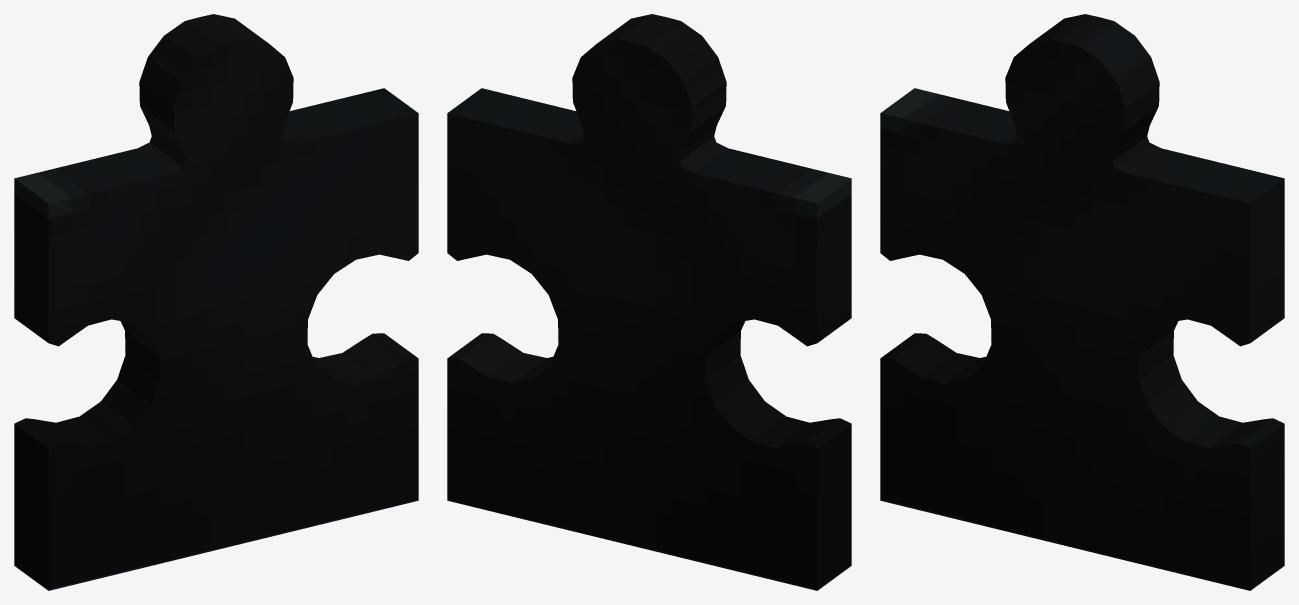
Rendered from Pieces_15_002.fbx.
3 renders of one model, left to right at view 1: azimuth 30°, elevation 25°; view 2: azimuth 150°, elevation 25°; view 3: azimuth 330°, elevation 25°, orthographic.
Visible parts, largest first — view 1: Pieces 15.002; view 2: Pieces 15.002; view 3: Pieces 15.002.
Part boxes in pixels (x1,y1,x2,y2): Pieces 15.002: (14, 14, 418, 590); Pieces 15.002: (447, 14, 851, 590); Pieces 15.002: (880, 14, 1284, 590).
Size of the model in its own units: 80.52 by 105 by 12.98.
